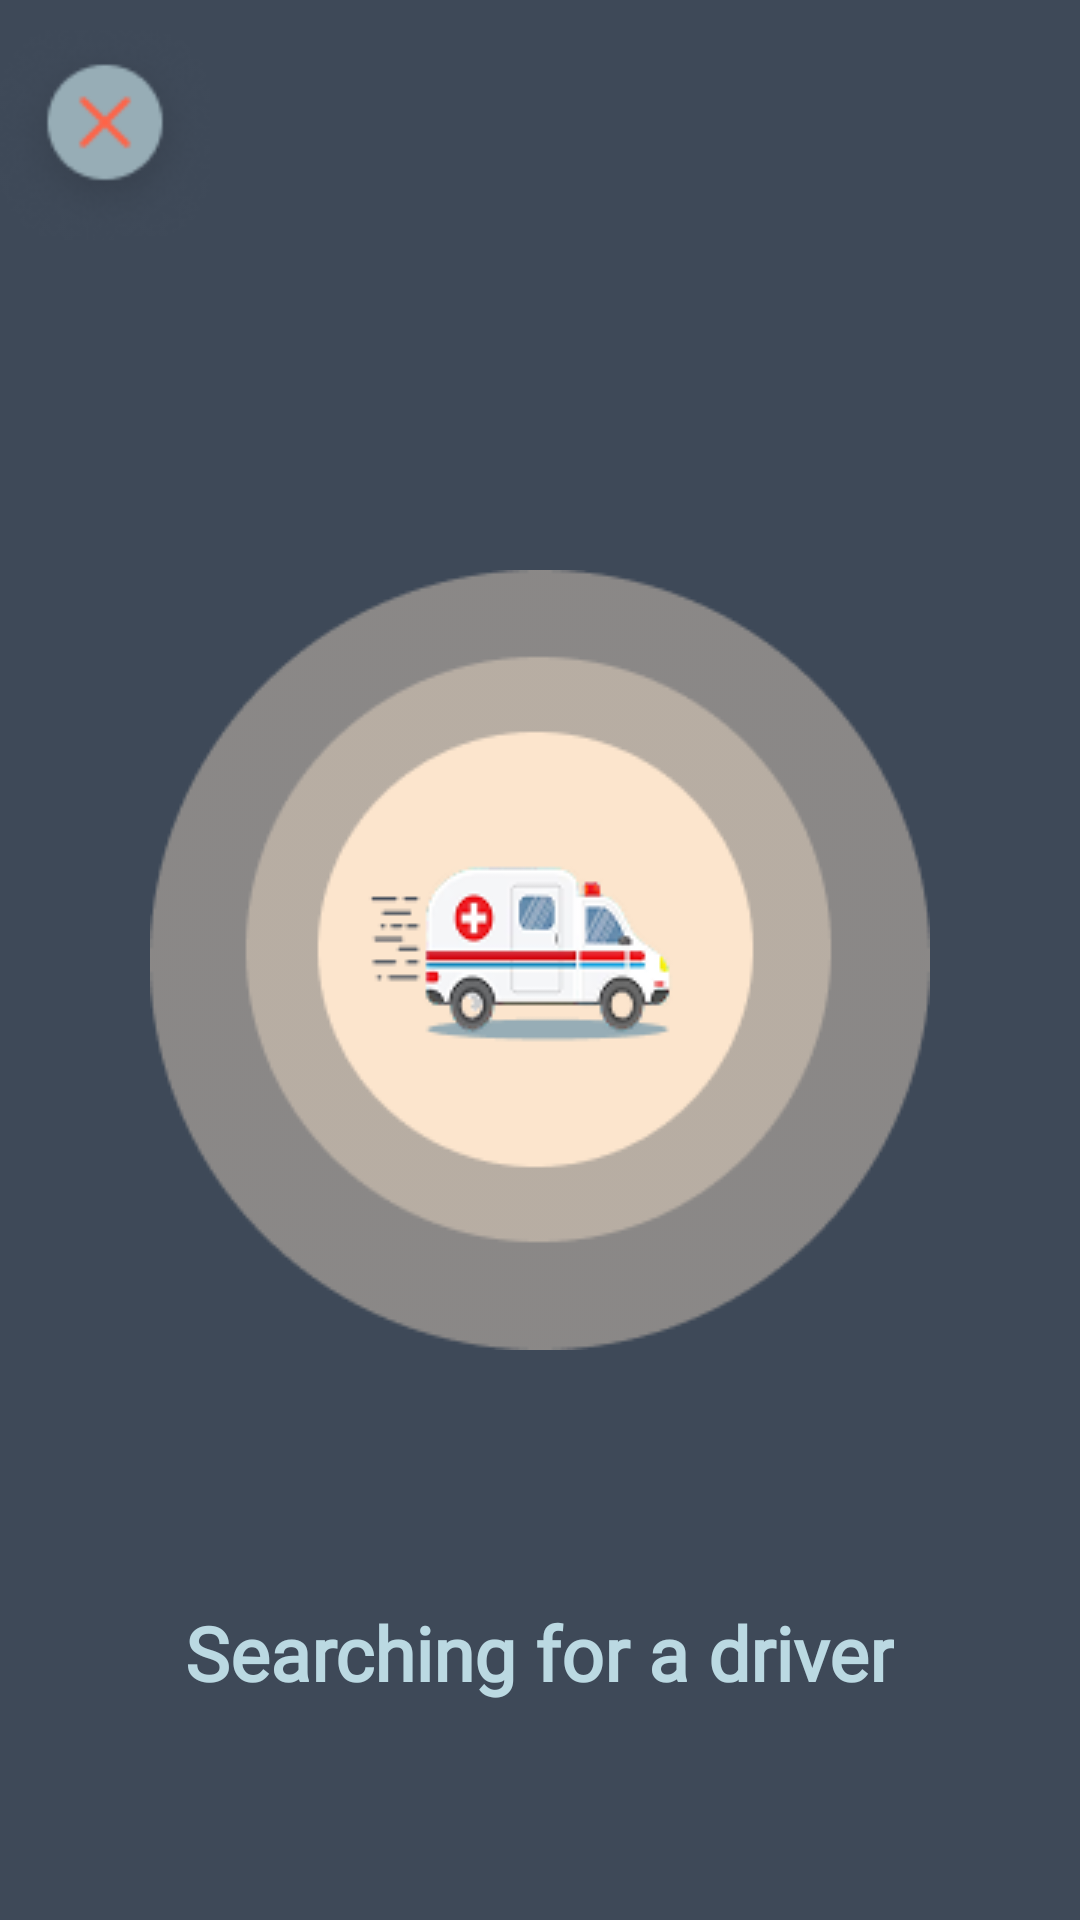

Screen size 1080 × 1920. Icon name, then its center in pixels as point (x, y):
close: point (105, 122)
